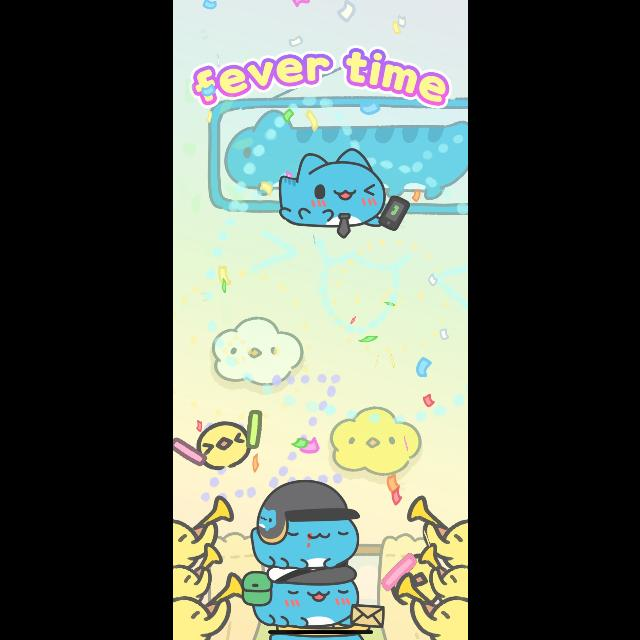capoo: (275, 146, 407, 236), (237, 560, 391, 632), (246, 478, 362, 572)
